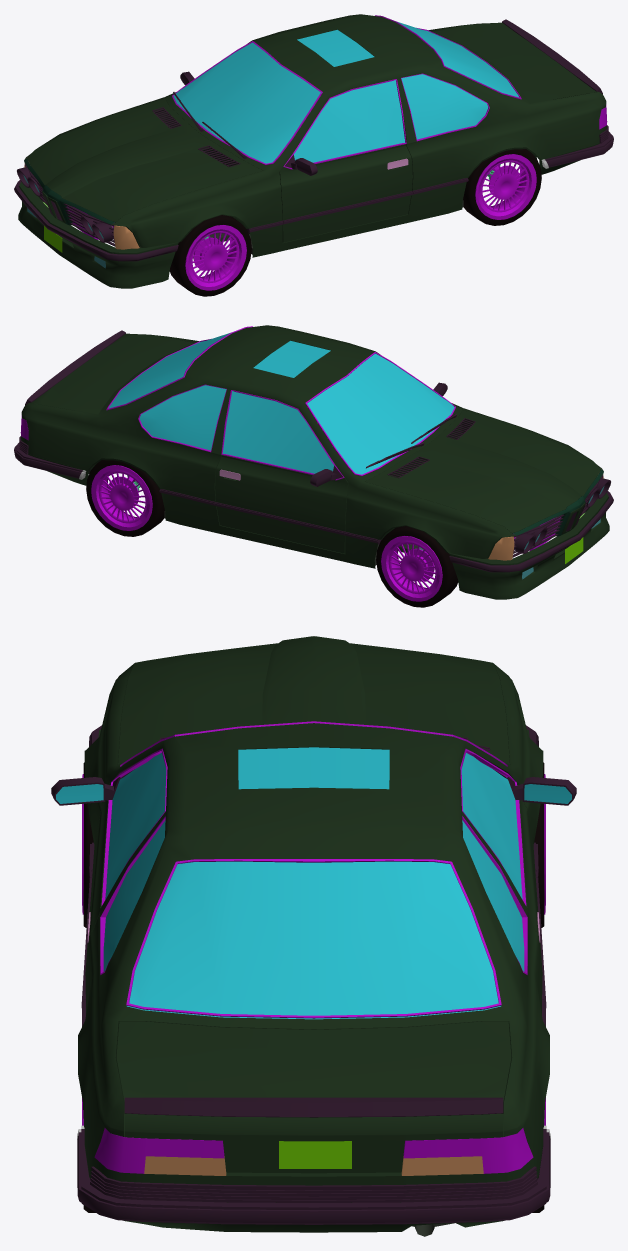
File: bmwE24.fbx
The picture shows the model from 3 angles, top to bottom: view 1: azimuth 30°, elevation 25°; view 2: azimuth 150°, elevation 25°; view 3: azimuth 270°, elevation 25°; orthographic projection. The views are drawn at different scales.
Visible parts, largest first — view 1: bmw_low; view 2: bmw_low; view 3: bmw_low.
Boxes of the visible parts, x1,y1,x2,y2 form: bmw_low: (14, 14, 613, 296); bmw_low: (14, 325, 613, 607); bmw_low: (51, 636, 576, 1236).
Size of the model in its own units: 487 by 212 by 146.
